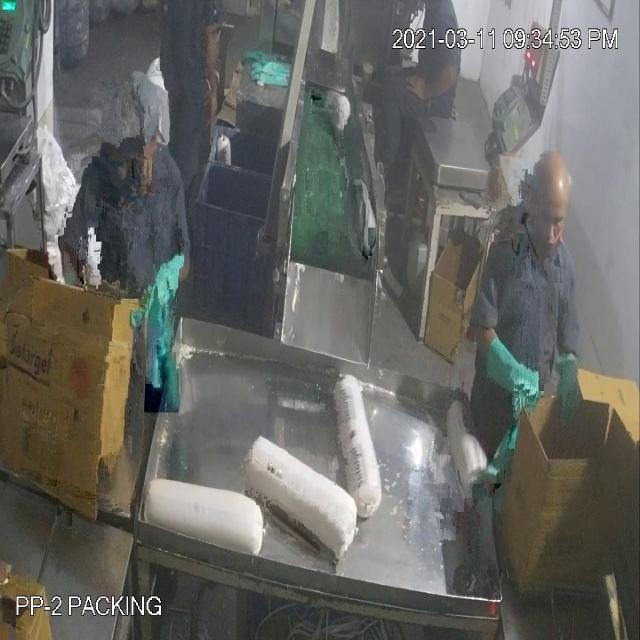No_Gloves: (400, 46, 458, 118)
